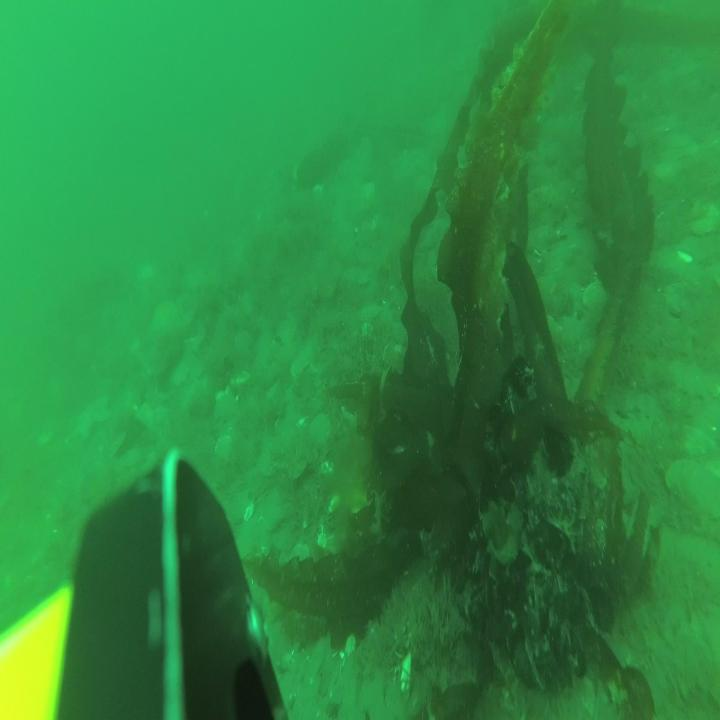scallop: (665, 453, 720, 530), (582, 276, 609, 315), (657, 243, 685, 280), (307, 414, 332, 454), (357, 300, 381, 324)
